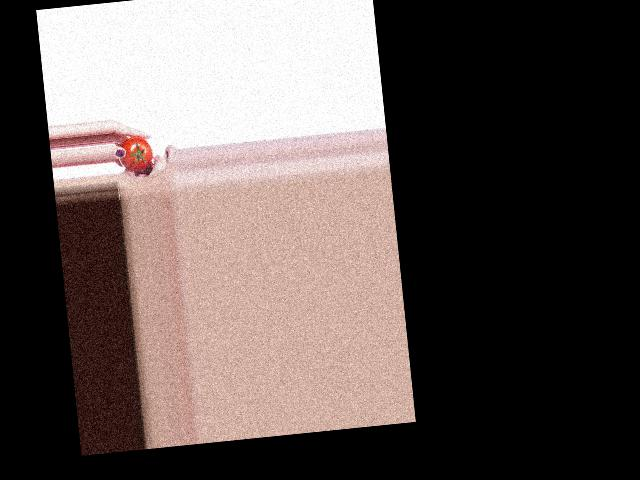tomato: (116, 134, 154, 172)
